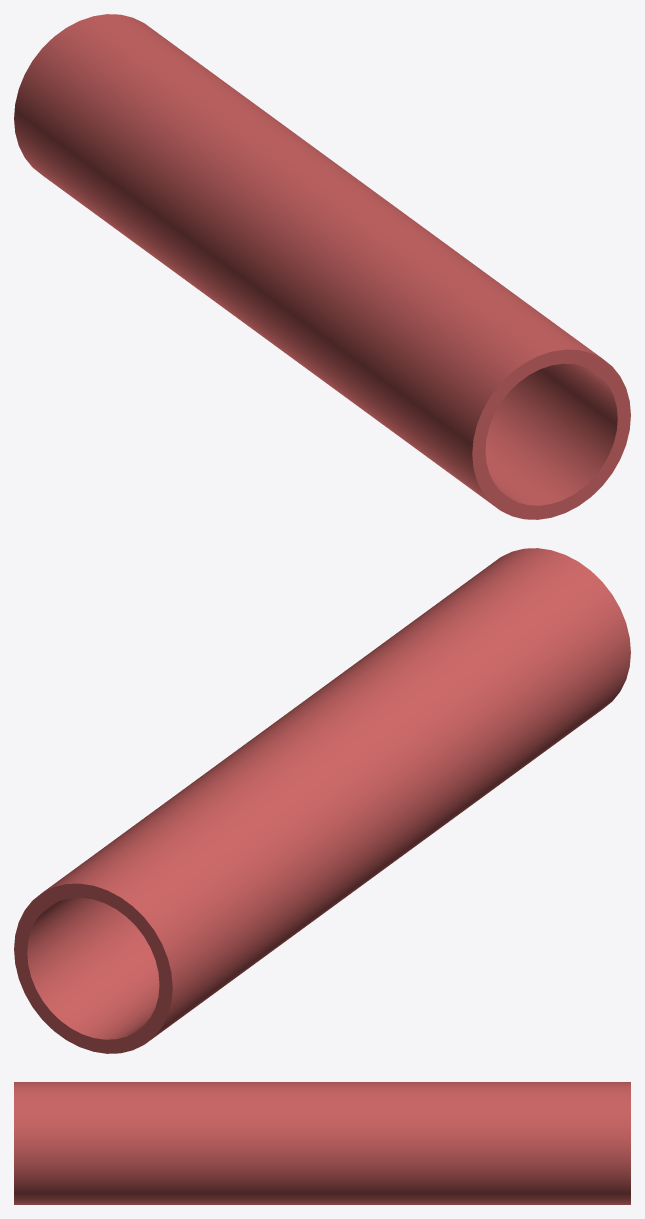
File: bloodVessel.fbx
3 renders of one model, top to bottom at view 1: azimuth 30°, elevation 25°; view 2: azimuth 150°, elevation 25°; view 3: azimuth 270°, elevation 25°, orthographic. The views are drawn at different scales.
Visible parts, largest first — view 1: Tube; view 2: Tube; view 3: Tube.
Part boxes in pixels (left/top/right/bottom): Tube: left=14, top=14, right=630, bottom=519; Tube: left=14, top=548, right=630, bottom=1053; Tube: left=14, top=1082, right=630, bottom=1204.
Bounding box in the file's own units: 600 × 600 × 3000.
